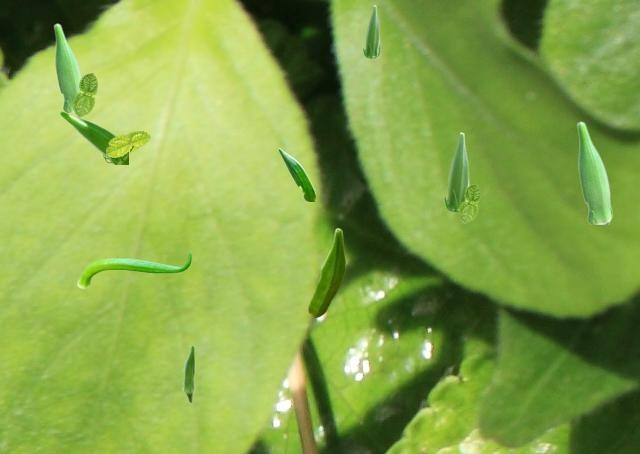okra: (77, 252, 190, 287), (576, 121, 611, 223), (59, 111, 127, 163), (308, 228, 344, 316), (53, 23, 81, 111), (444, 132, 469, 211), (278, 148, 314, 200), (363, 5, 379, 57), (182, 345, 194, 402)
